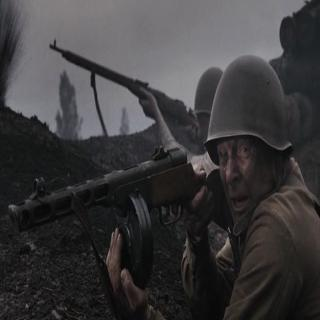gun: (6, 139, 249, 282), (45, 31, 207, 143)
